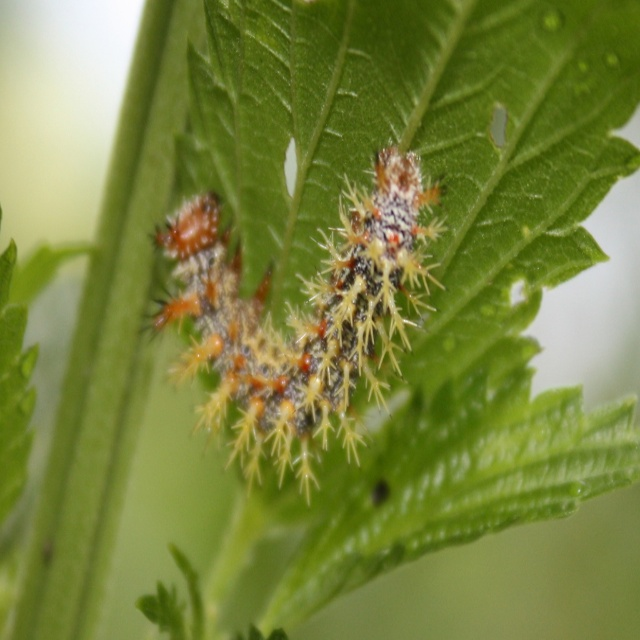Caterpillar: (137, 124, 449, 490)
